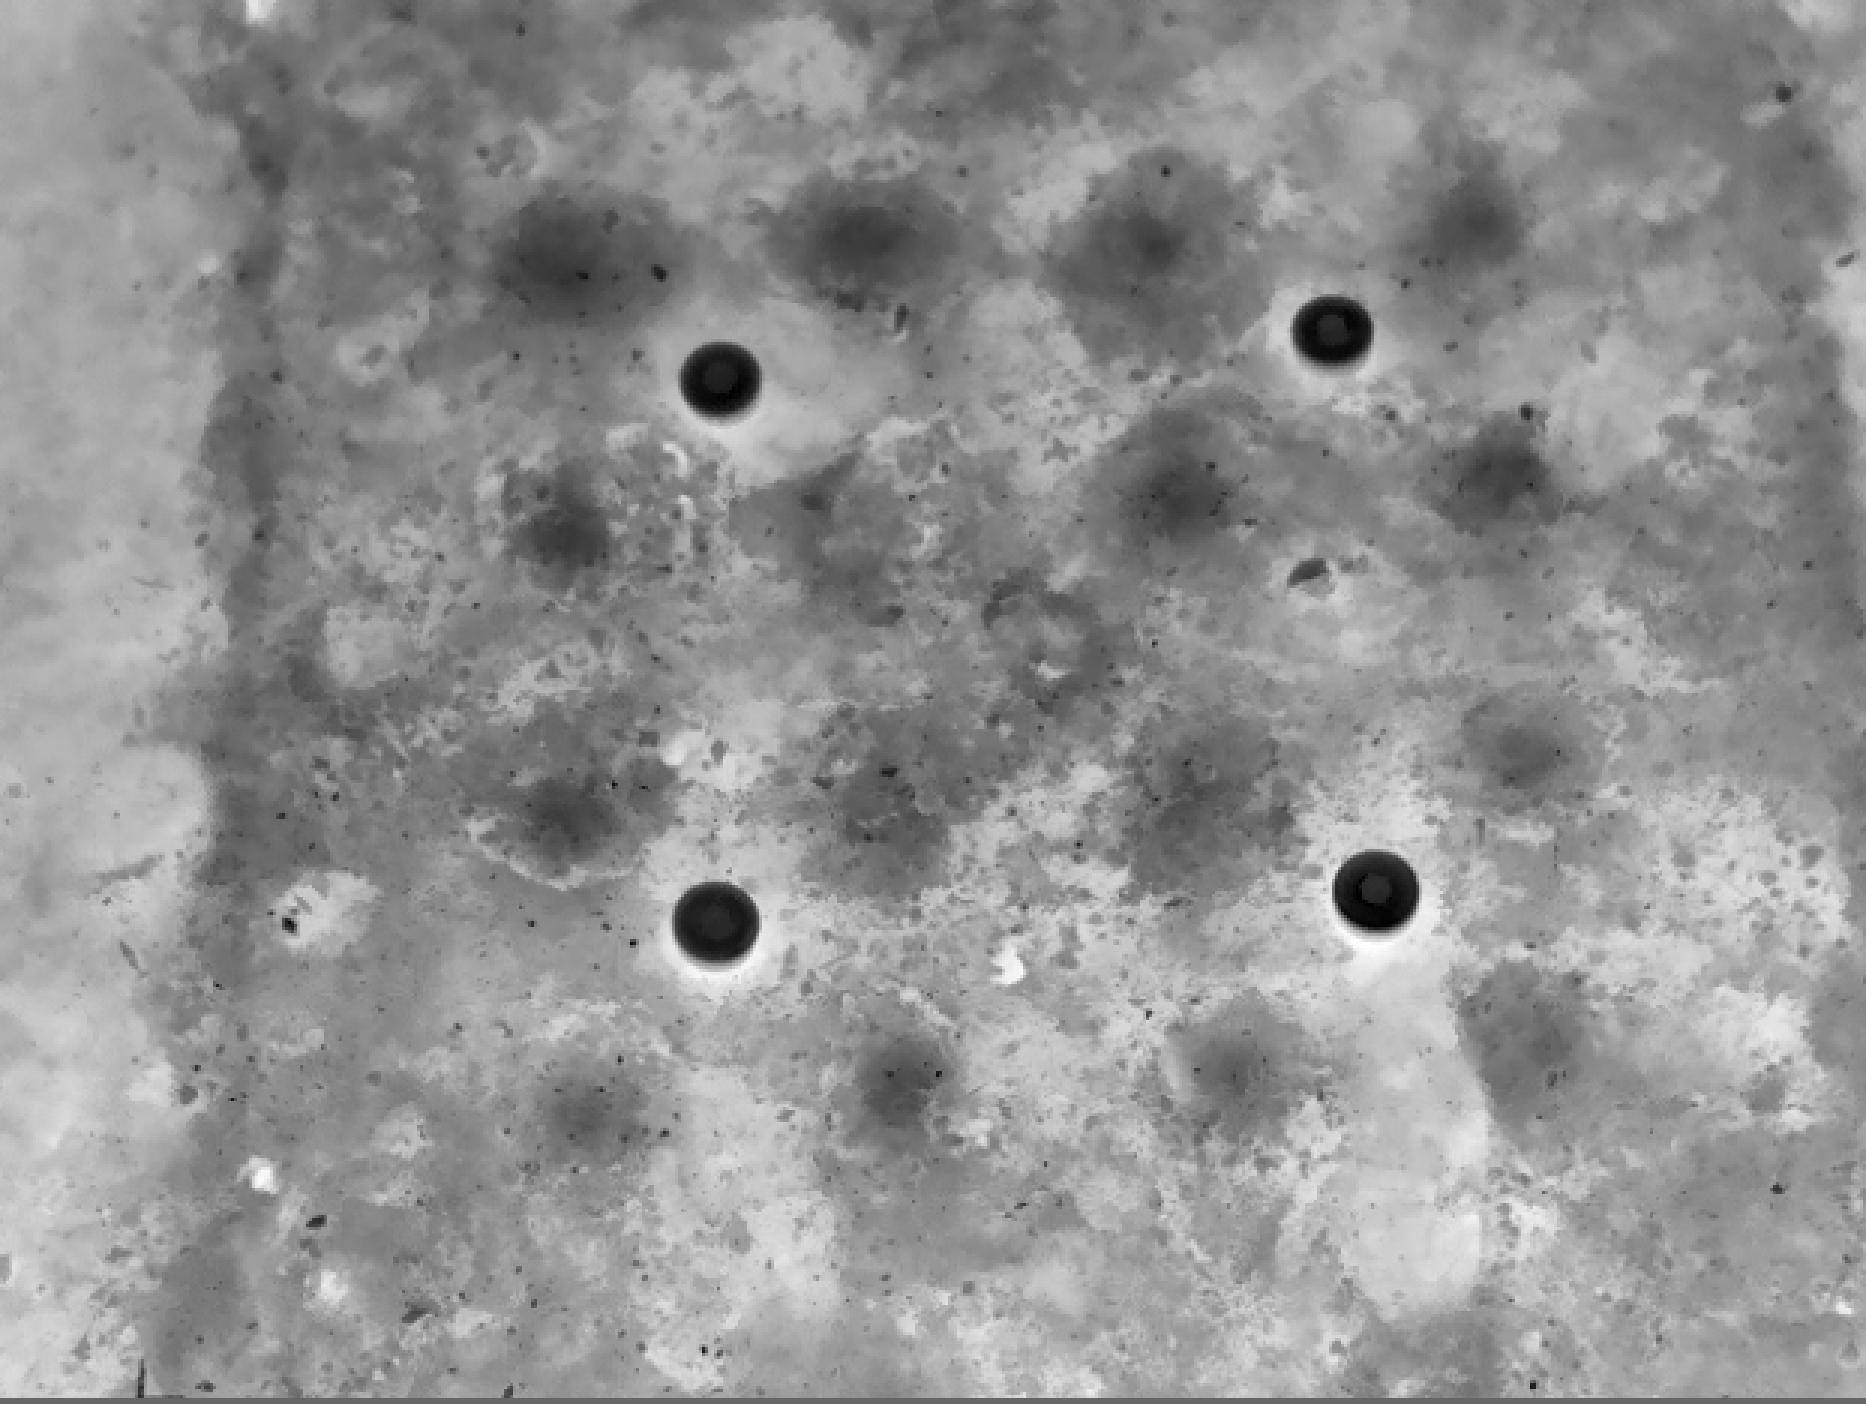mines-gjV8: (662, 869, 766, 962), (1342, 842, 1429, 938), (692, 332, 763, 419), (1303, 288, 1379, 363)
